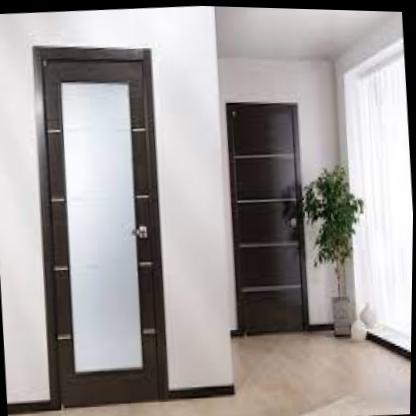Door: (29, 41, 174, 408), (224, 100, 313, 334)
